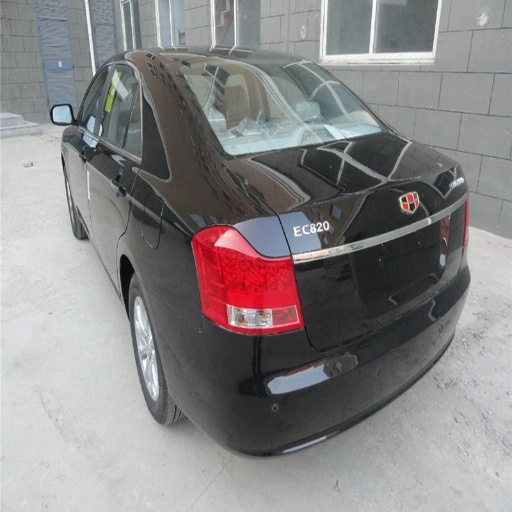back_bumper: (171, 320, 385, 482)
back_left_light: (192, 227, 304, 334)
front_left_door: (83, 67, 112, 221)
tailgate: (268, 129, 451, 355)
